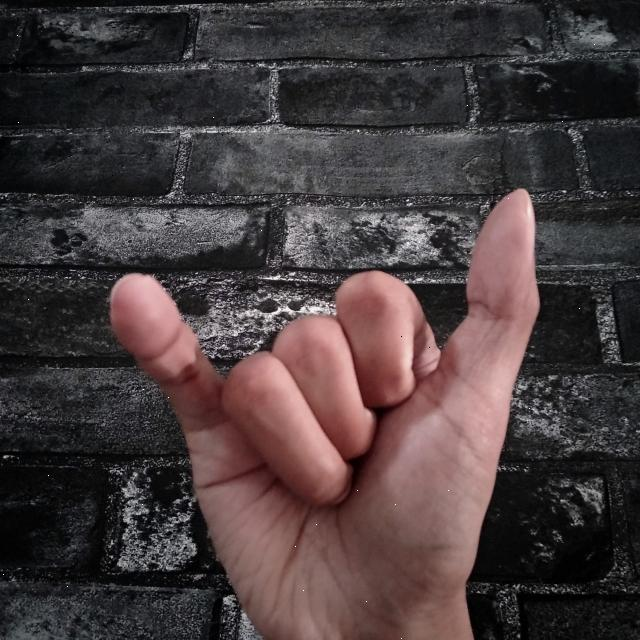Y: (105, 182, 546, 640)
